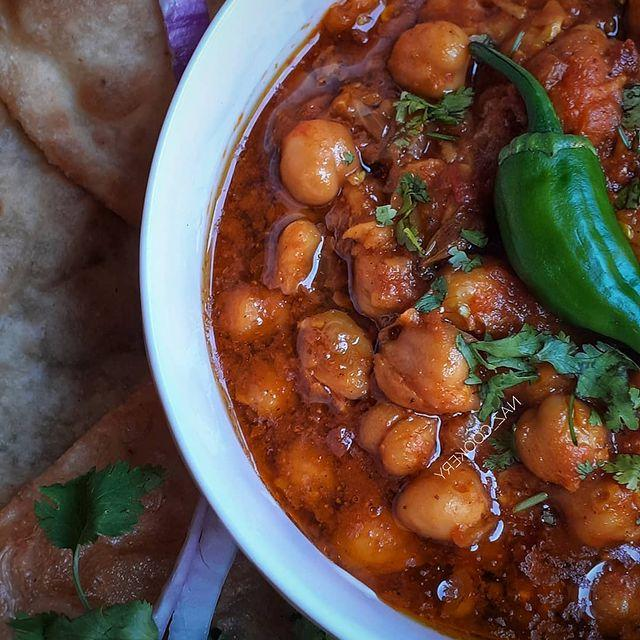Chole: (218, 28, 544, 588)
